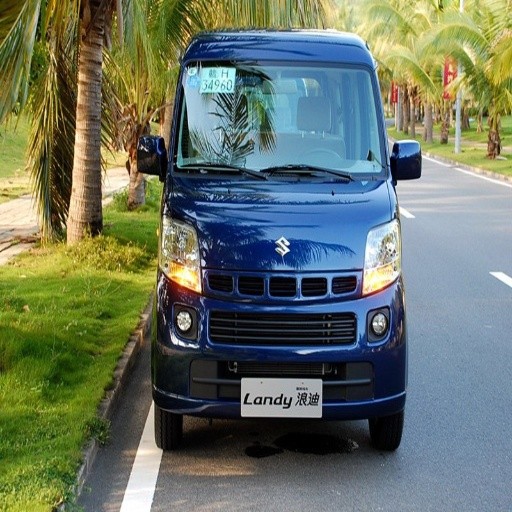front_bumper: (153, 267, 406, 427)
front_right_light: (160, 212, 201, 292)
hood: (169, 170, 394, 269)
